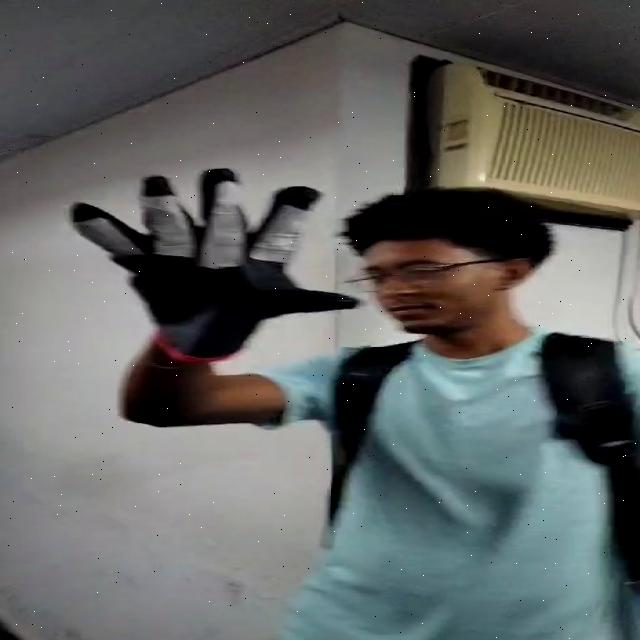Gloves: (58, 166, 358, 360)
